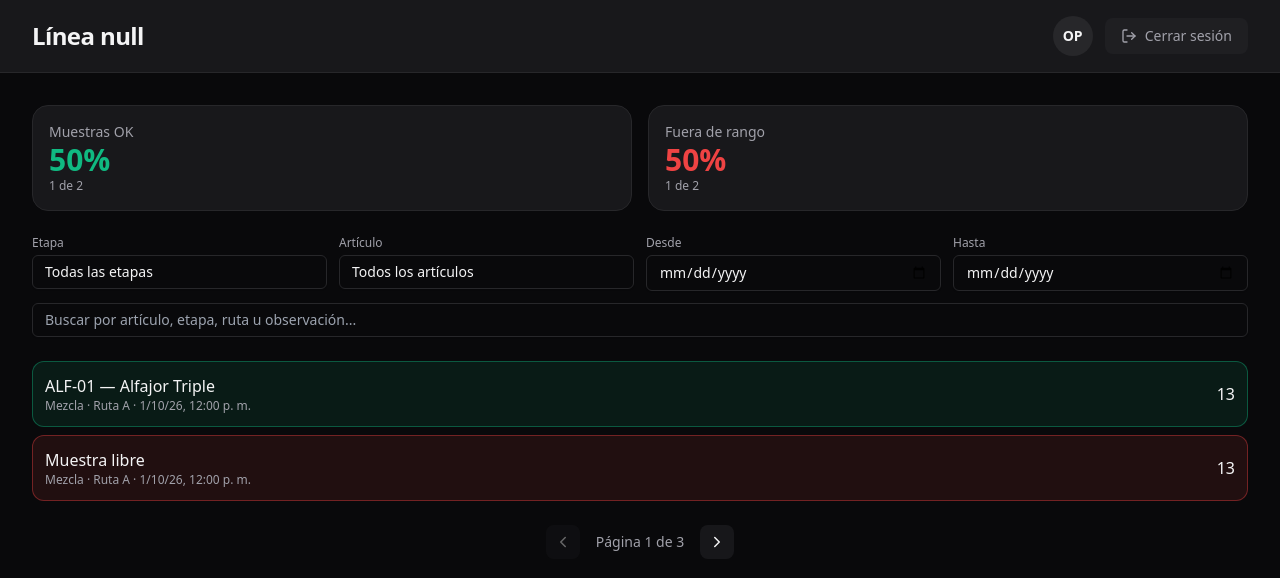
Test: HistorialPage › sends etapa, artículo and date filters and goes back to page 1
The image size is (1280, 578).
Later steps or results of the test are not shown.
Expected: the text "Página 1 de 3" is shown, [596, 532, 684, 552]
Click the button named "Página siguiente" at (717, 542), box [700, 525, 734, 559]
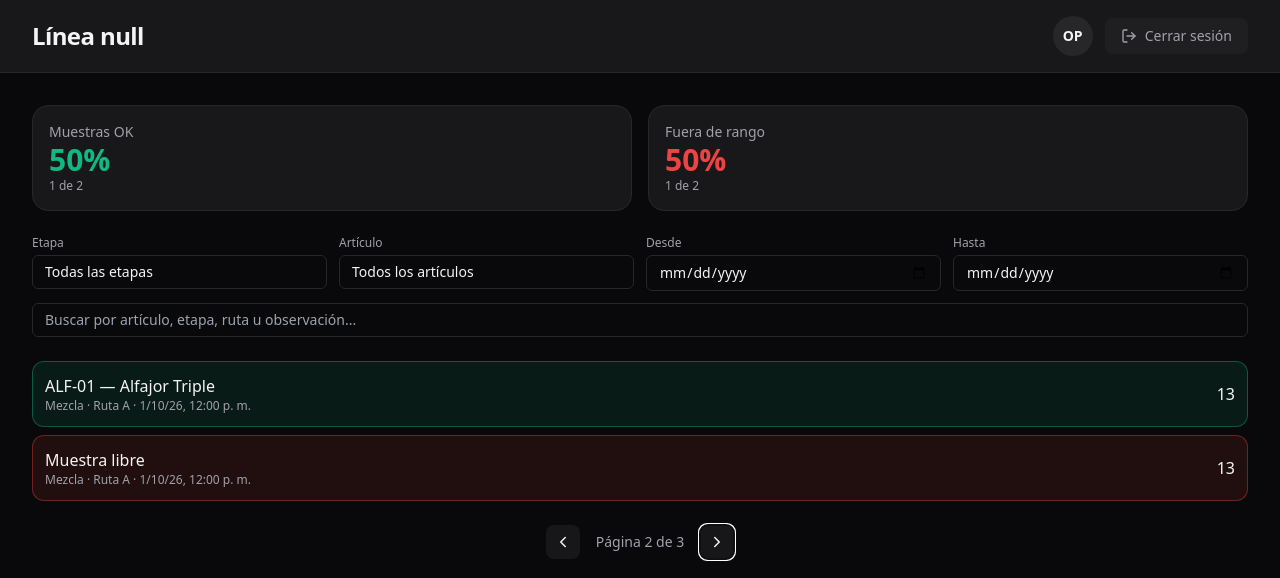
Now the text "Página 2 de 3" is shown, box [596, 532, 684, 552]
